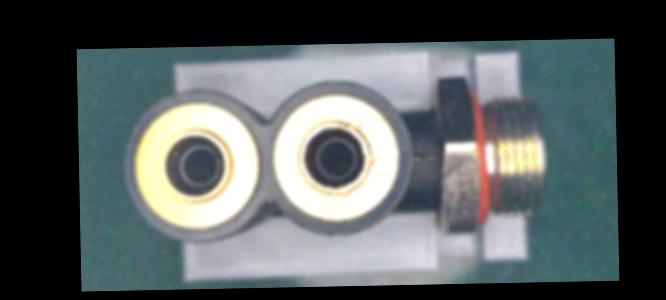craze: (411, 150, 443, 162)
